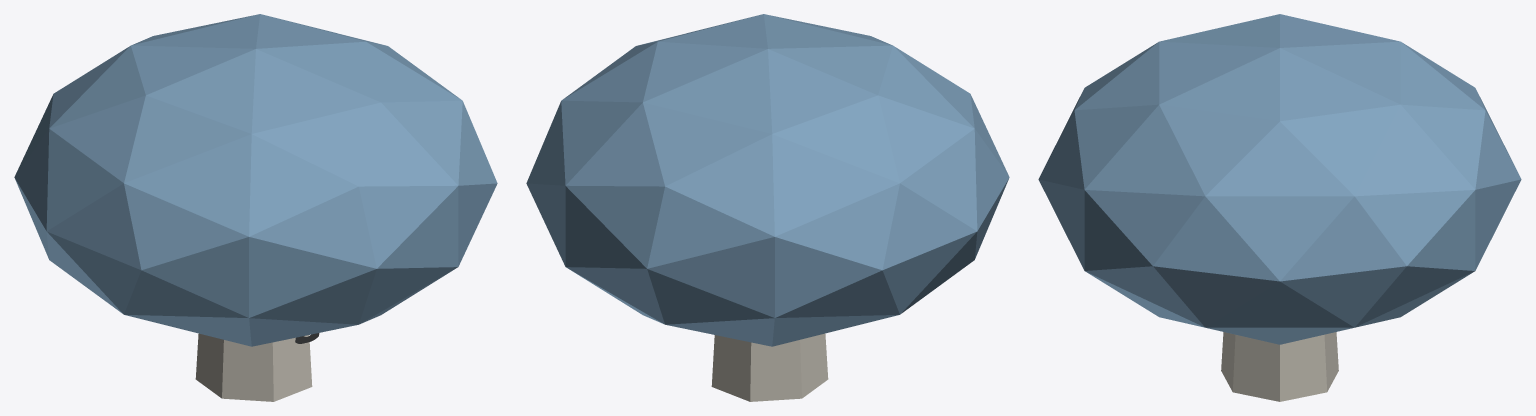
File: marasmius-haematocephalus.glb
The picture shows the model from 3 angles, left to right: view 1: azimuth 30°, elevation 25°; view 2: azimuth 150°, elevation 25°; view 3: azimuth 270°, elevation 25°; orthographic projection.
Visible parts, largest first — view 1: cap, stalk; view 2: cap, stalk; view 3: cap, stalk.
Boxes of the visible parts, box(x1,y1,x2,y2) form: cap: box(14, 14, 497, 346); stalk: box(195, 333, 312, 401); cap: box(526, 14, 1009, 346); stalk: box(711, 333, 828, 401); cap: box(1038, 14, 1521, 344); stalk: box(1221, 332, 1338, 401).
Bounding box in the file's own units: 0.4 × 0.3 × 0.4.
